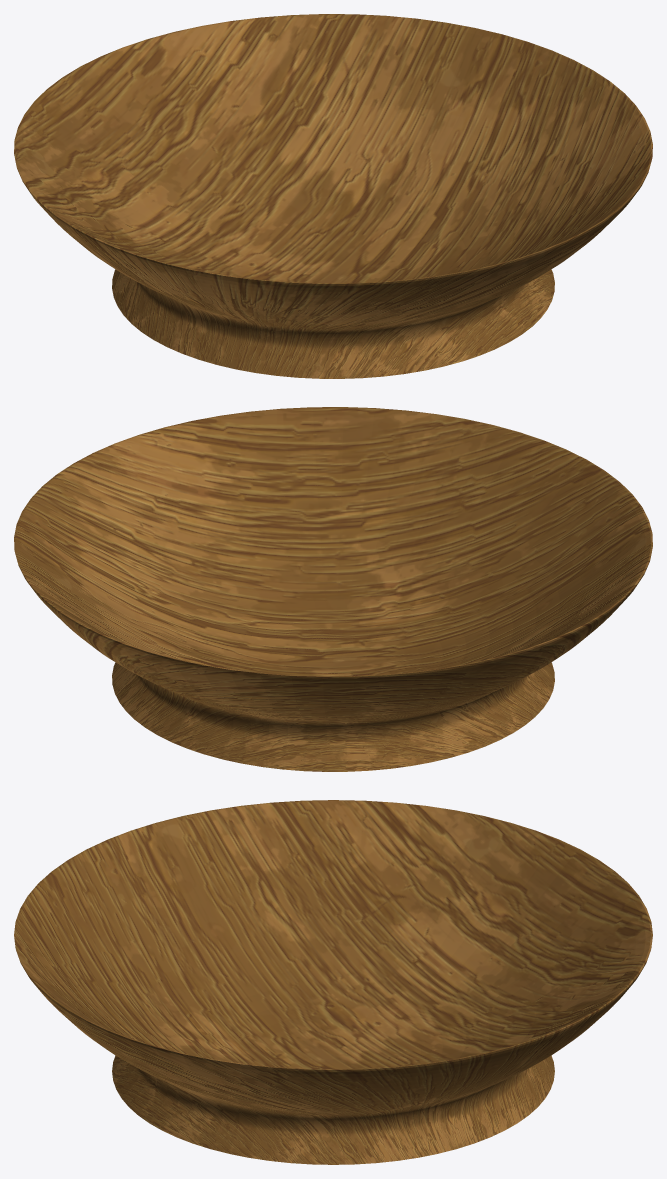
Rendered from BowlForDragonballs.fbx.
3 renders of one model, top to bottom at view 1: azimuth 30°, elevation 25°; view 2: azimuth 150°, elevation 25°; view 3: azimuth 270°, elevation 25°, orthographic.
Parts seen in each view (by area): view 1: Circle; view 2: Circle; view 3: Circle.
Part boxes in pixels (x1,y1,x2,y2): Circle: (14,14,652,378); Circle: (14,407,652,771); Circle: (14,800,652,1164).
Size of the model in its own units: 141 by 33.09 by 141.
